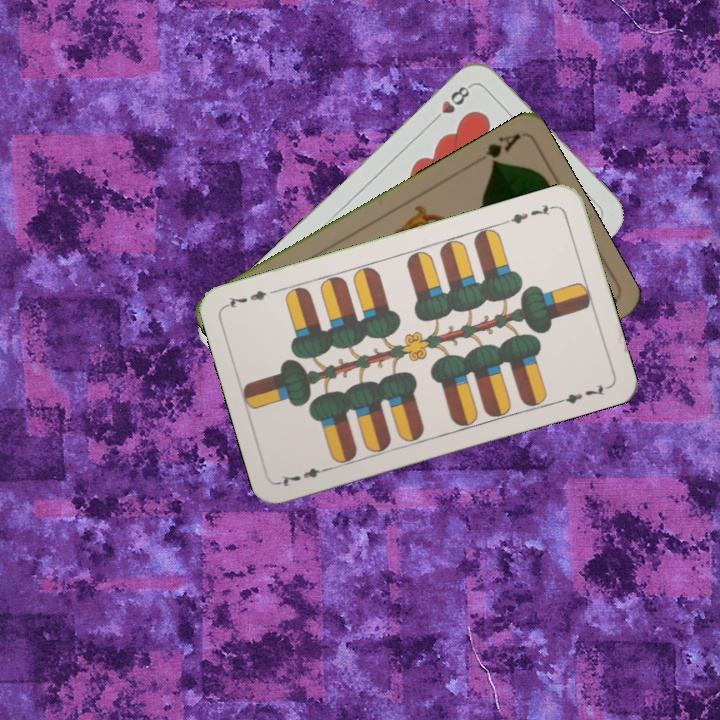E7: (501, 200, 559, 227), (276, 463, 334, 489)
GA: (481, 129, 523, 169)
H8: (427, 80, 475, 126)
